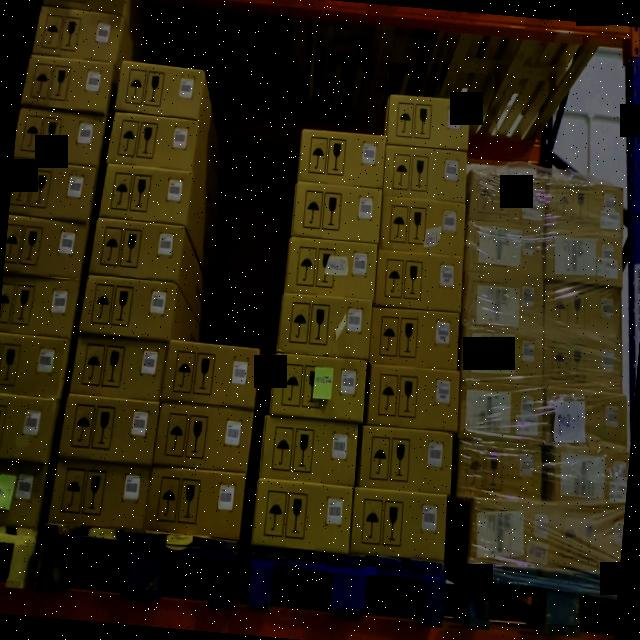box: (250, 477, 354, 553), (348, 487, 449, 563), (146, 467, 249, 539), (47, 461, 151, 531), (258, 415, 359, 487), (57, 397, 159, 467), (152, 403, 255, 472), (268, 352, 367, 423), (356, 425, 453, 497), (163, 339, 262, 409), (468, 494, 562, 566), (275, 293, 372, 360), (366, 364, 460, 433), (78, 276, 176, 342), (68, 337, 168, 401), (88, 218, 185, 283), (283, 236, 377, 301), (368, 306, 459, 370), (290, 180, 382, 243), (454, 439, 542, 504), (456, 380, 544, 444), (98, 166, 191, 226), (378, 193, 466, 256), (373, 252, 463, 312), (296, 127, 386, 187), (114, 61, 205, 120), (107, 113, 198, 172), (20, 56, 113, 113), (542, 388, 627, 450), (458, 325, 544, 386), (459, 268, 544, 329), (381, 144, 467, 202), (32, 6, 121, 62), (542, 331, 623, 392), (386, 93, 470, 151), (466, 169, 548, 228), (543, 227, 624, 286), (463, 220, 545, 277), (551, 444, 630, 503), (544, 177, 624, 234), (543, 279, 623, 336)
